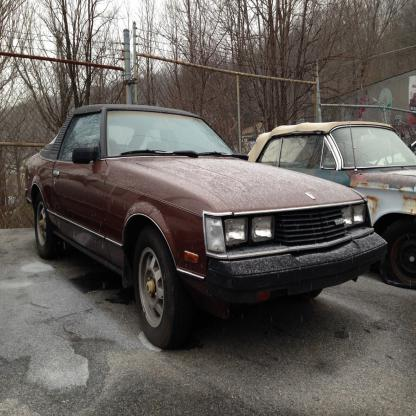Car: (23, 99, 388, 350), (245, 119, 415, 289)
